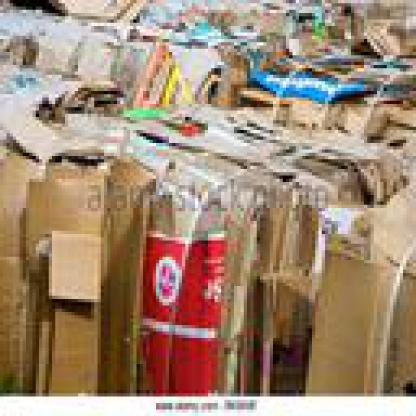Mrisq: (120, 107, 390, 393), (0, 107, 127, 393), (302, 182, 413, 393), (237, 42, 413, 143), (72, 39, 238, 123)
